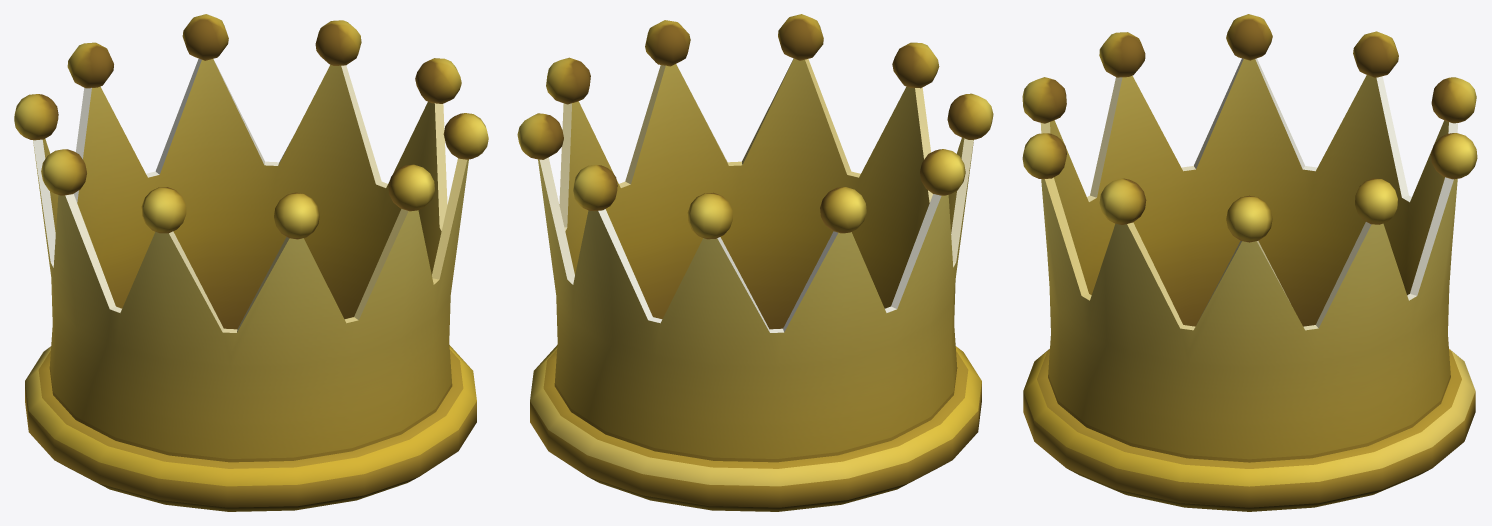
Rendered from Crown.fbx.
The picture shows the model from 3 angles, left to right: view 1: azimuth 30°, elevation 25°; view 2: azimuth 150°, elevation 25°; view 3: azimuth 270°, elevation 25°; orthographic projection.
Visible parts, largest first — view 1: Crown; view 2: Crown; view 3: Crown.
Boxes of the visible parts, x1,y1,x2,y2 form: Crown: [14, 14, 488, 511]; Crown: [517, 14, 993, 511]; Crown: [1022, 14, 1477, 511].
Size of the model in its own units: 8.29 by 6.07 by 7.91.
